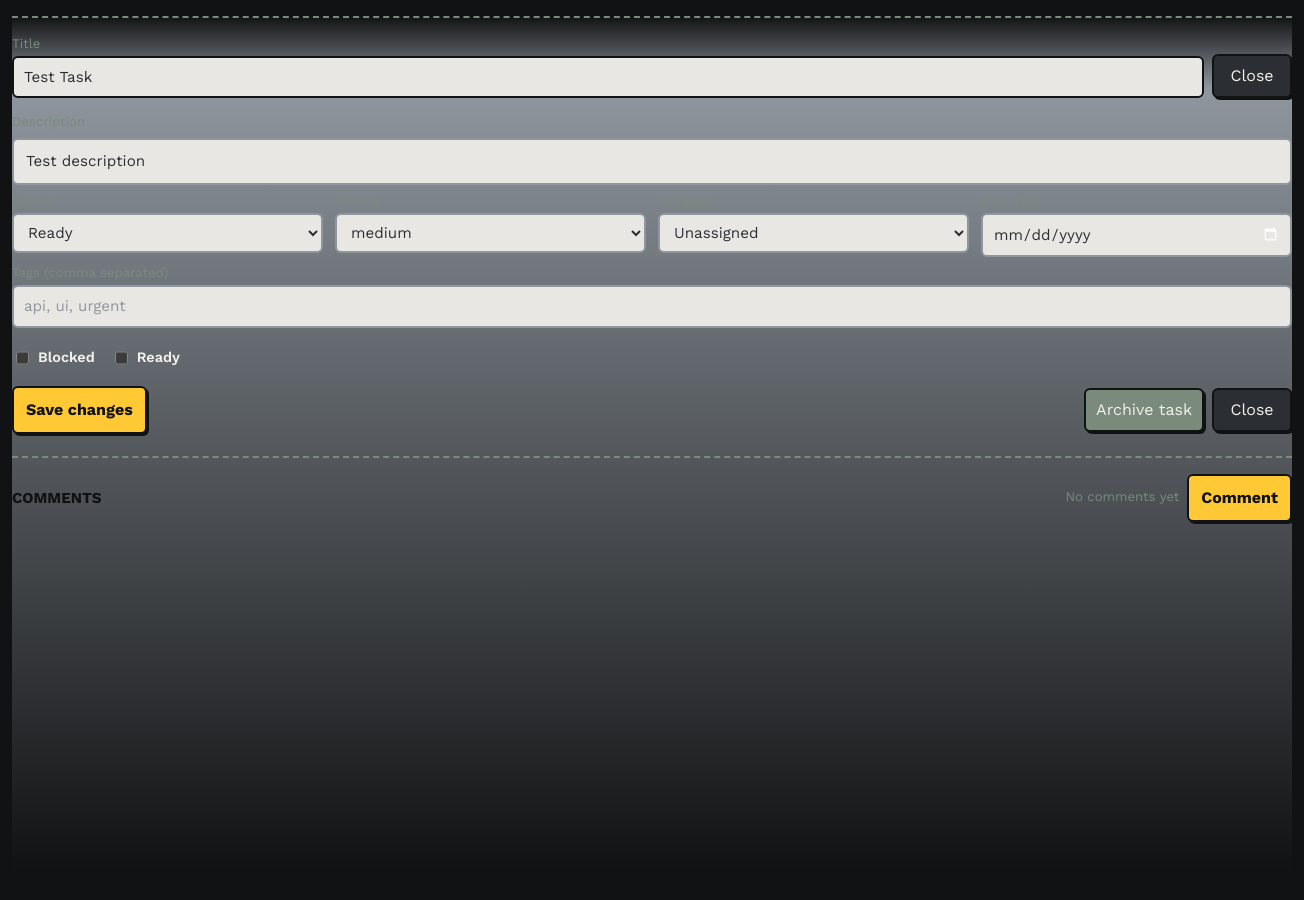
Test: TaskEditor › can toggle comment composer
The width and height of the screenshot is (1304, 900).
# Click the Comment button to open comment composer
What coordinates should you click on to do the following:
click the button "Comment"
I would click on:
 (1240, 498)
Its box is [1187, 474, 1292, 522].
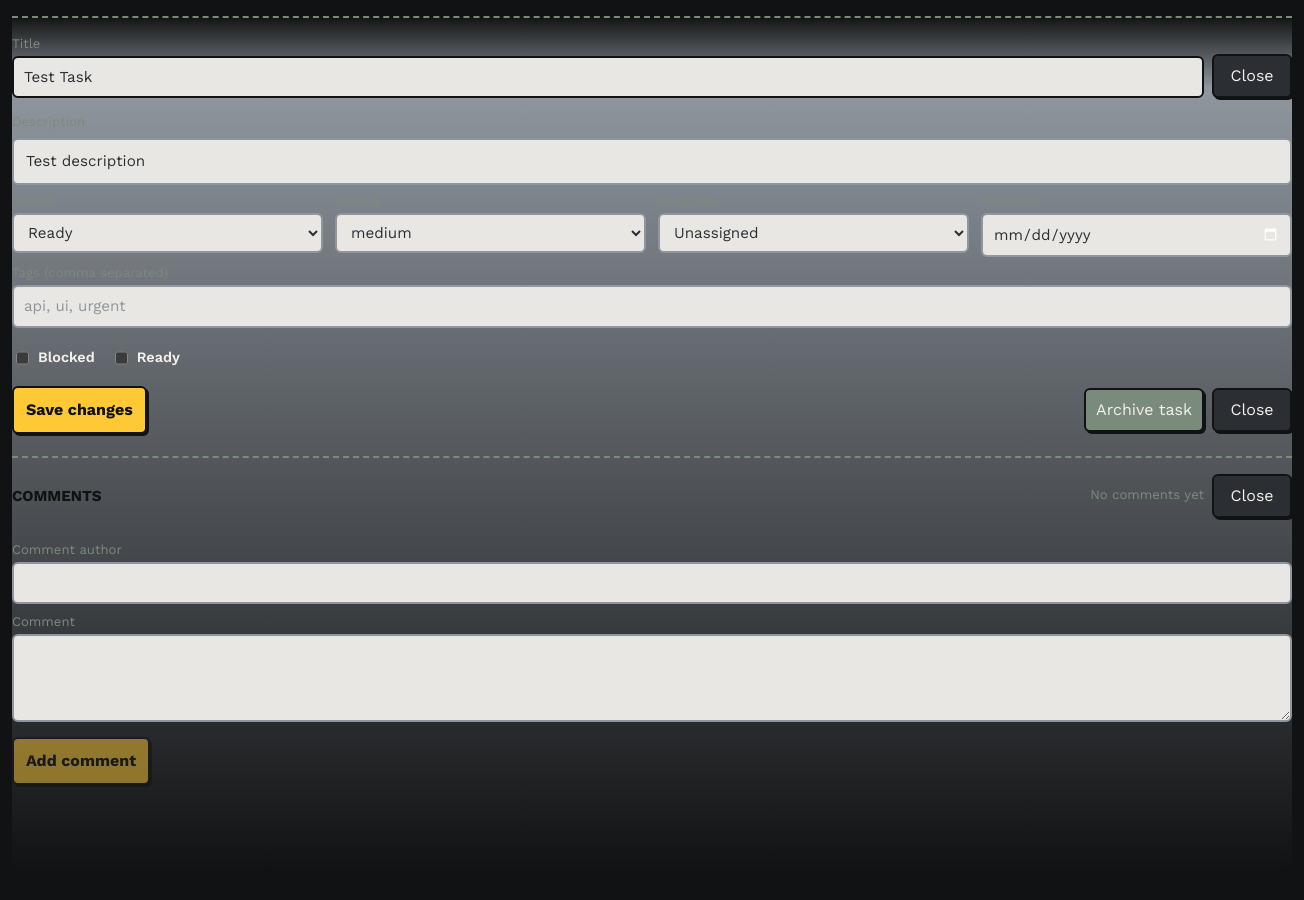
Now the field labelled "Comment author" is shown, box [12, 562, 1292, 604]
Now the text box named "Comment text" is shown, box [12, 634, 1292, 722]
